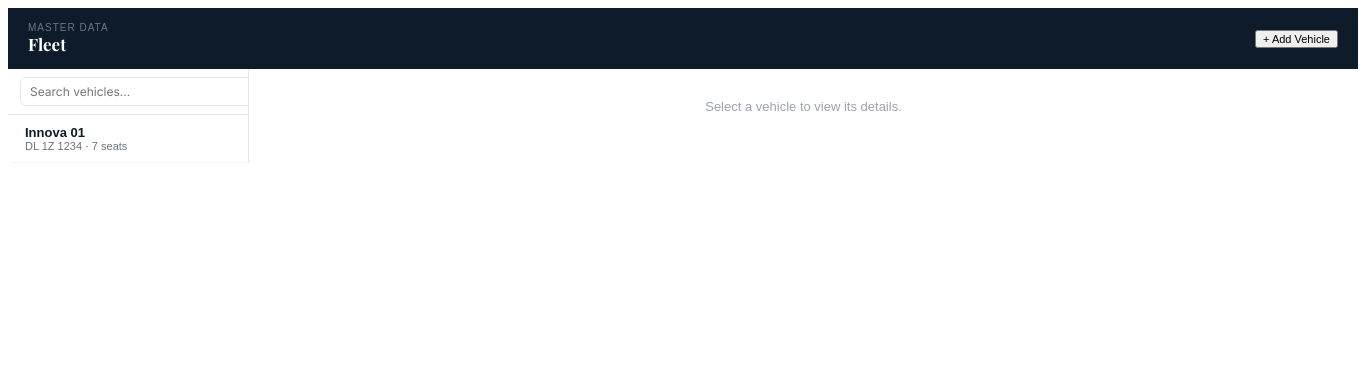
FleetMaster › lists vehicles and shows the profile fields
Click the text "Innova 01" at (55, 132), box [25, 125, 85, 140]
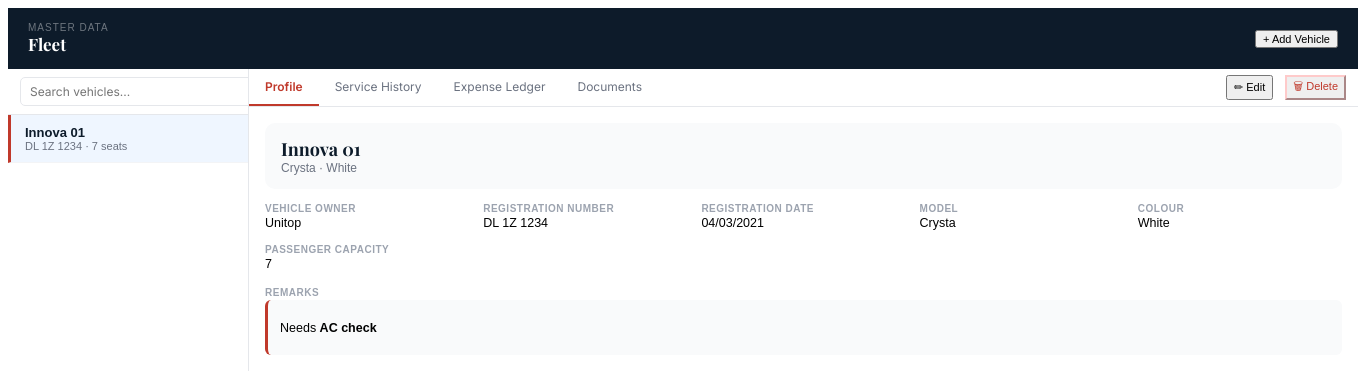
Check: the text "DL 1Z 1234" is shown, box [483, 216, 548, 230]
Check: the text "Crysta · White" is shown, box [281, 161, 357, 175]
Check: the button "Profile" is shown, box [249, 69, 319, 106]
